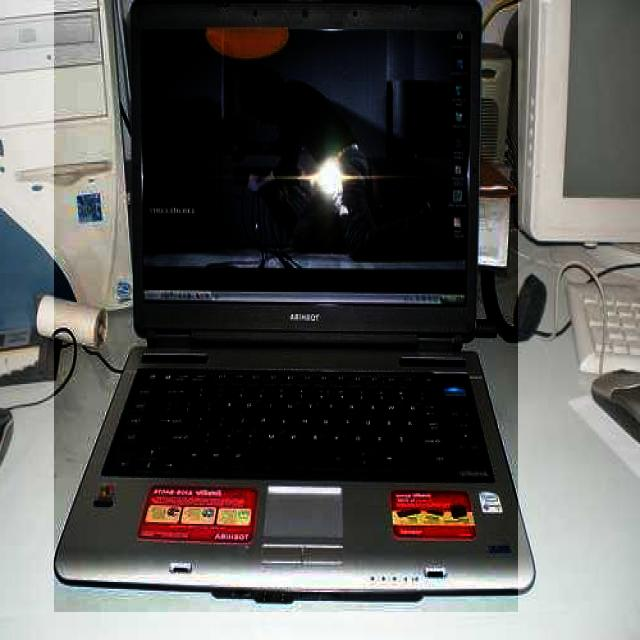-keyboard-: (54, 0, 518, 612)
